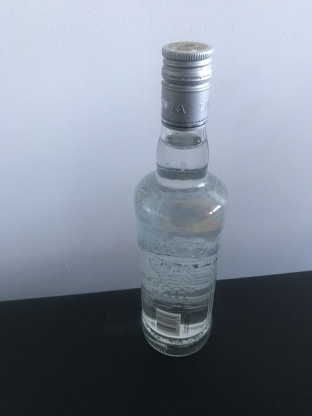nakretka: (159, 38, 216, 134)
